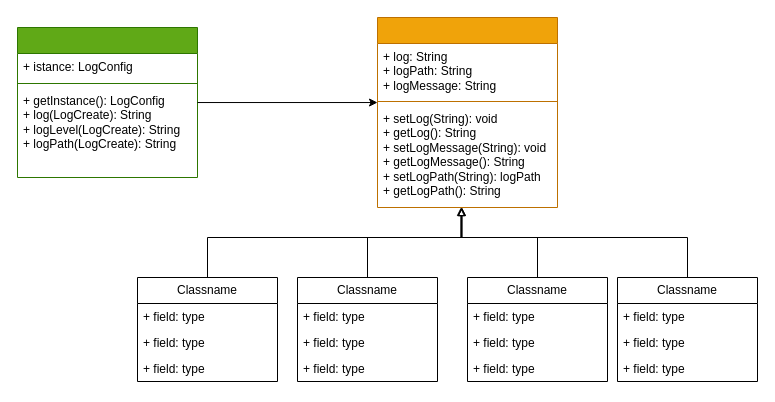
Some shapes in this 775 by 402 pixel diagram are drawn without their labels. Each missing label, with the box of its shape:
LogConfig (Singletton): (16, 26, 198, 178)
LogCreate (Factory): (376, 16, 558, 208)
